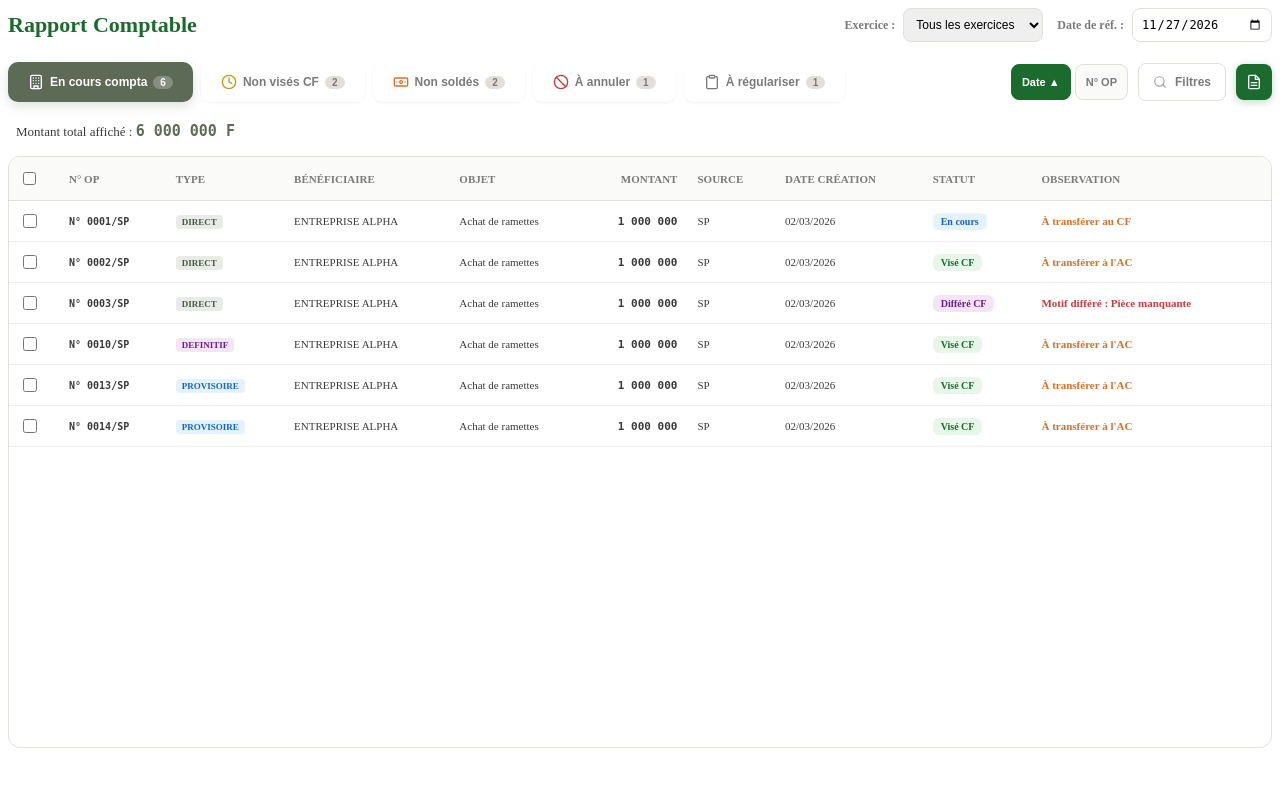
Test: Rapport — Non visés CF › changer la date de référence change le délai
The image size is (1280, 800).
In the date field: (1202, 25) 1132,8 -> 1272,42, type "2026-03-23"
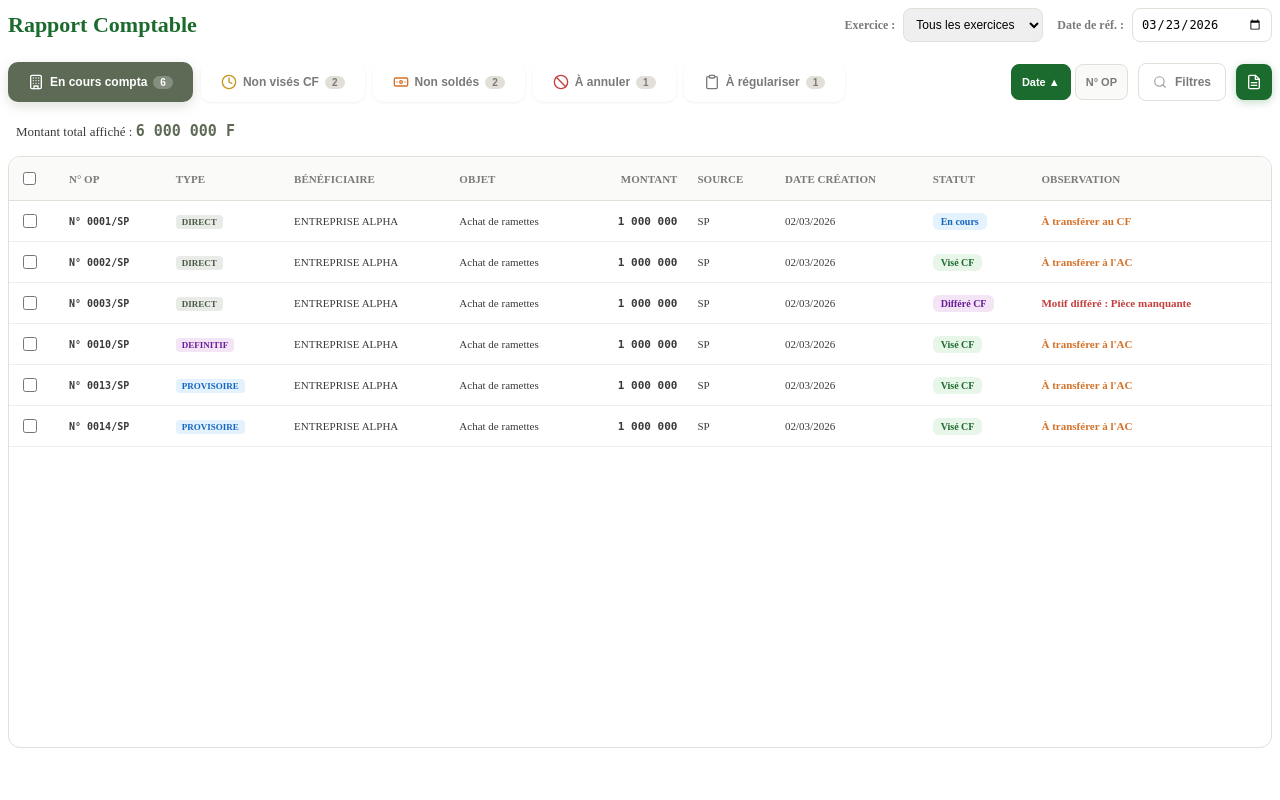
Click the button "Non visés CF 2": (283, 82) 201,62 -> 364,102
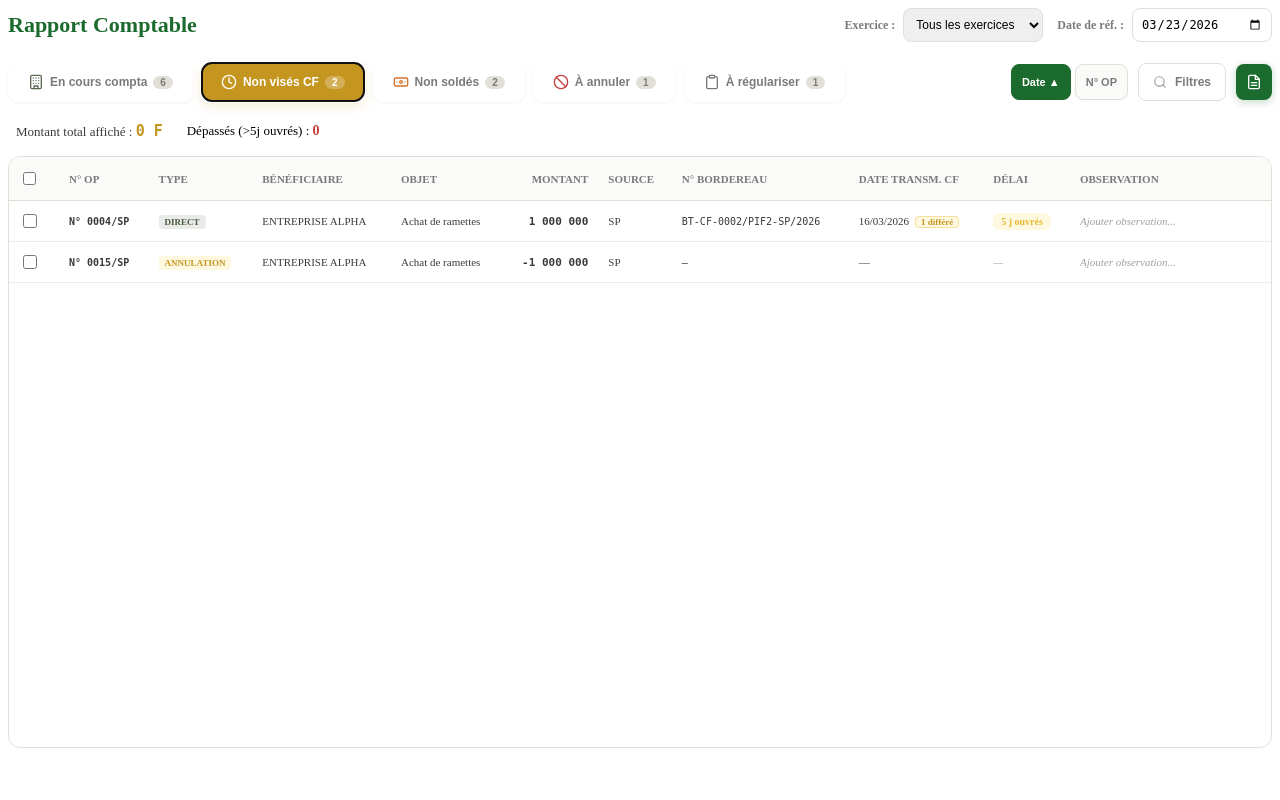
In the date field showing "2026-03-23": (1202, 25) 1132,8 -> 1272,42, type "2026-03-18"
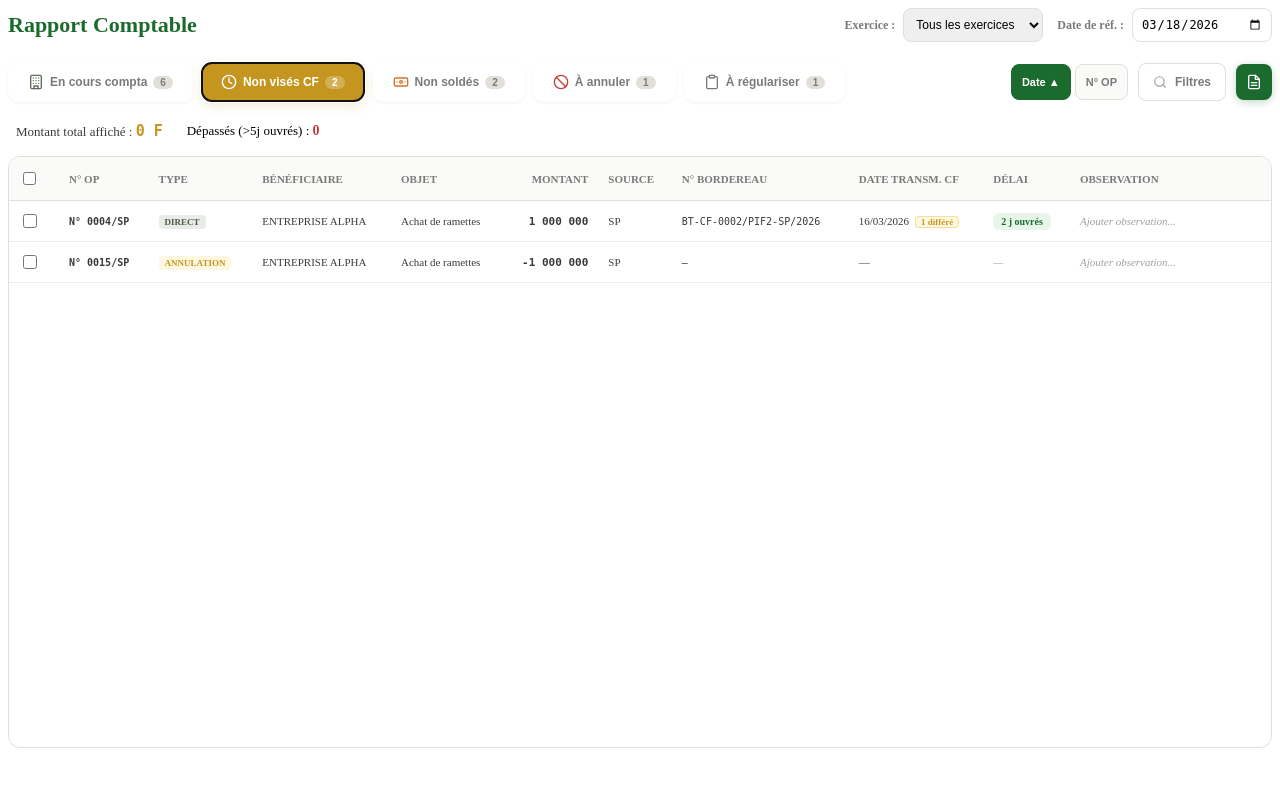
Expected: the text "2 j ouvrés" is shown, 993,213 -> 1051,230
